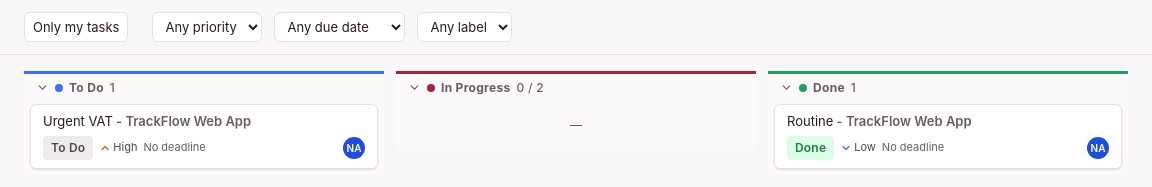
Test: KanbanBoard › filters cards by priority and label from the toolbar, keeping the columns
The image size is (1152, 187).
Select "High" in the dropdown named "Filter by priority". click: coordinates (207, 27)
box: [152, 12, 262, 42]
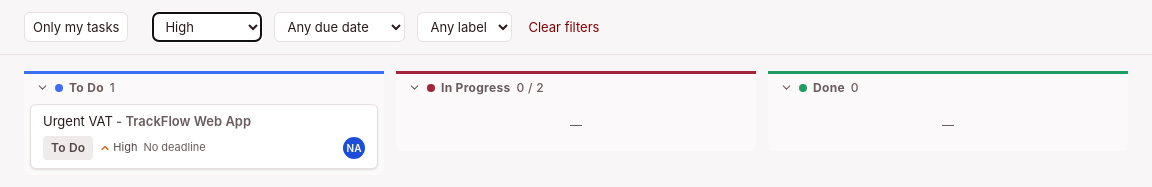
Expected: the text "Urgent VAT" is shown, [43, 113, 113, 129]
Expected: the button "Routine" is gone
Click the button "Clear filters". click: coordinates (564, 27)
box: [524, 19, 603, 35]
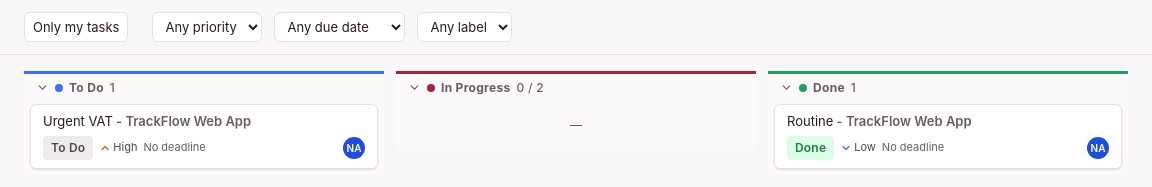
Expected: the text "Routine" is shown, [787, 113, 833, 129]
Select "VAT" in the dropdown named "Filter by label". click: coordinates (465, 27)
box: [417, 12, 512, 42]
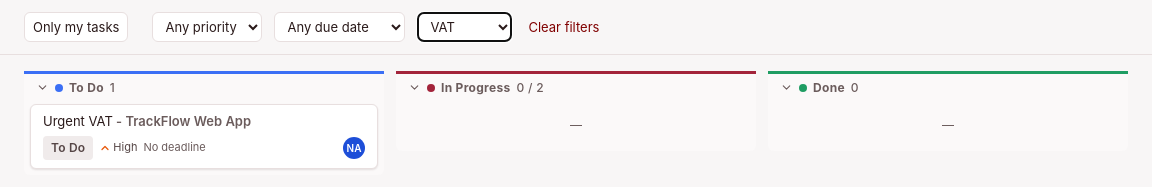
Expected: the button "Routine" is gone
